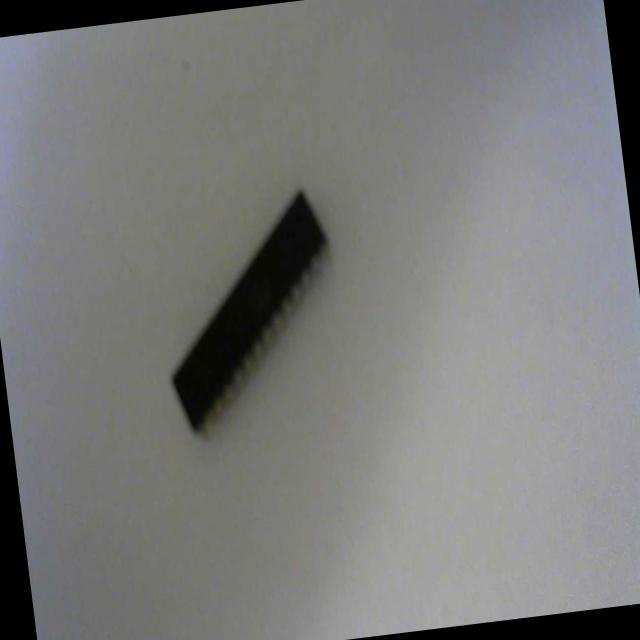atmega: (146, 182, 352, 439)
